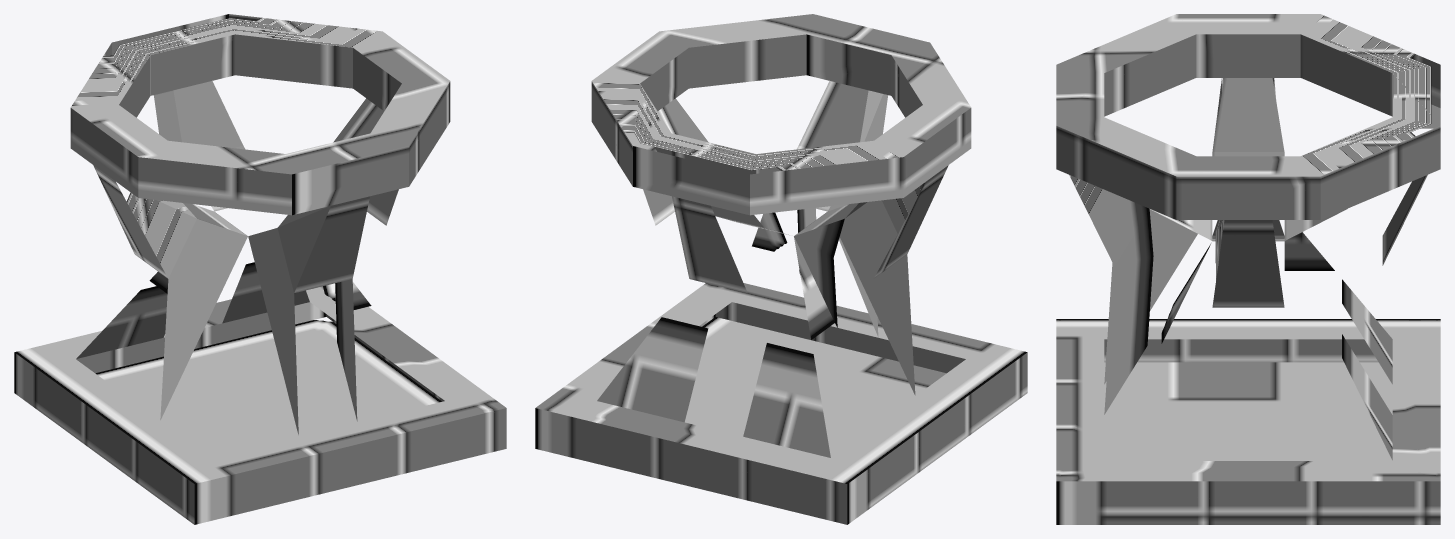
The model's file is essenceInfuser.obj.
3 views of the same model, side by side, from view 1: azimuth 30°, elevation 25°; view 2: azimuth 150°, elevation 25°; view 3: azimuth 270°, elevation 25° (orthographic). The views are drawn at different scales.
Bounding box in the file's own units: 1 × 1 × 1.
